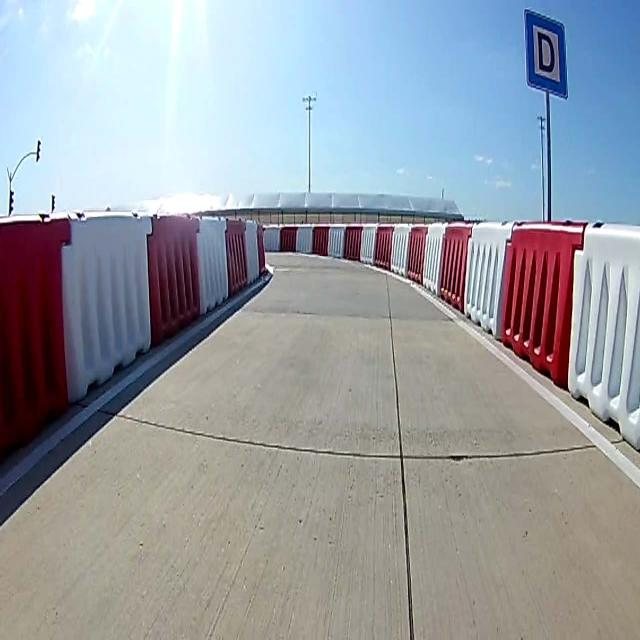durak: (525, 8, 567, 100)
